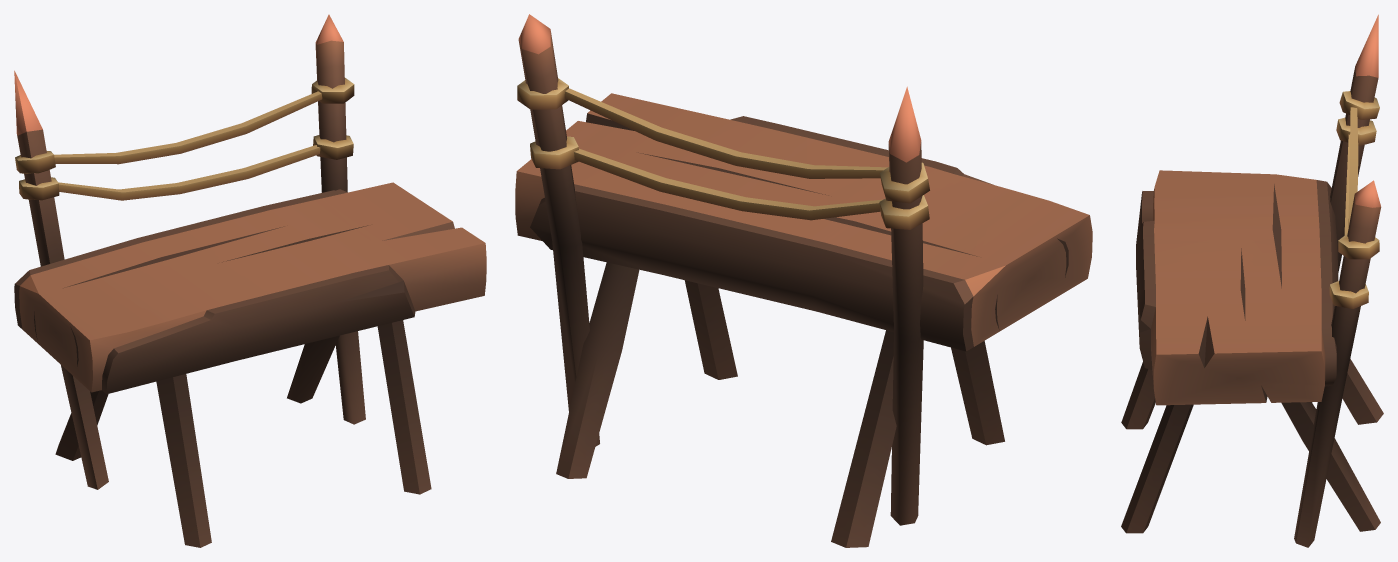
Rendered from Table_1B.fbx.
The picture shows the model from 3 angles, left to right: view 1: azimuth 30°, elevation 25°; view 2: azimuth 150°, elevation 25°; view 3: azimuth 270°, elevation 25°; orthographic projection. The views are drawn at different scales.
Visible parts, largest first — view 1: Table_1B; view 2: Table_1B; view 3: Table_1B.
Boxes of the visible parts, bbox=[...] form: Table_1B: bbox=[14, 14, 486, 547]; Table_1B: bbox=[515, 14, 1092, 547]; Table_1B: bbox=[1121, 14, 1383, 547].
Size of the model in its own units: 192 by 186 by 114.
